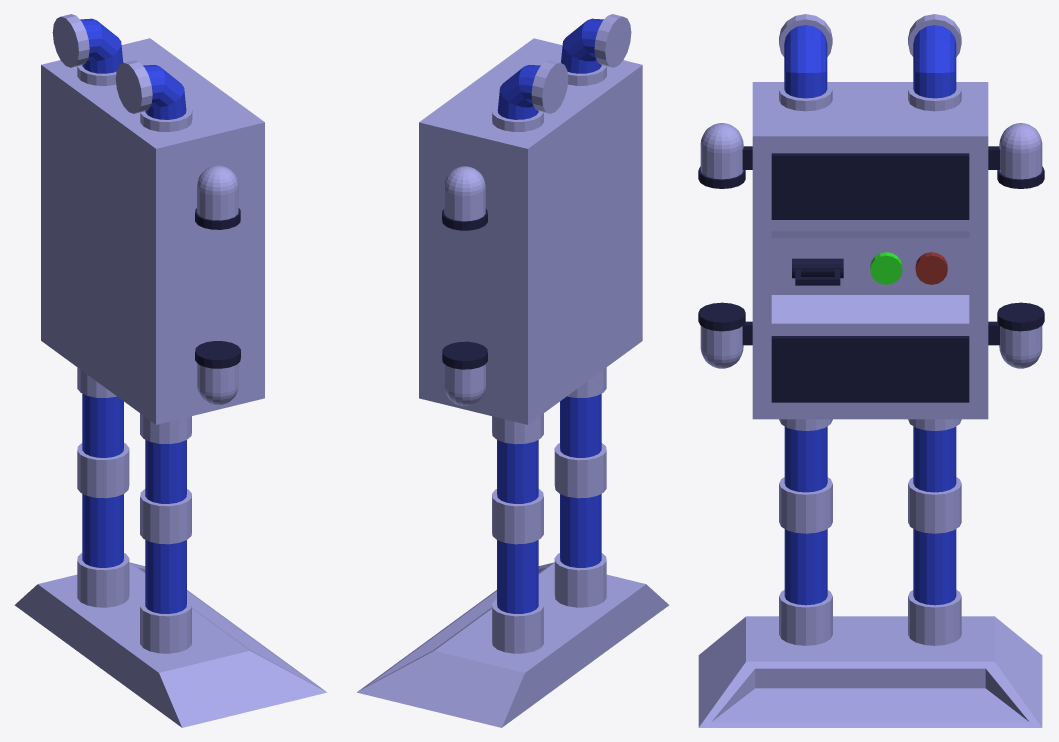
The model's file is Cooling_Terminal.fbx.
3 renders of one model, left to right at view 1: azimuth 30°, elevation 25°; view 2: azimuth 150°, elevation 25°; view 3: azimuth 270°, elevation 25°, orthographic. The views are drawn at different scales.
Visible parts, largest first — view 1: Main, Base, Cylinder.006, Cylinder.001, Cylinder.008, Cube.004, Cube.005, Cylinder.007, Cylinder.009, Cylinder.000; view 2: Main, Base, Cylinder.001, Cylinder.006, Cylinder.008, Cube, Cube.001, Cylinder.007, Cylinder.009, Cylinder.000; view 3: Main, Base, Cube.002, Cube.003, Cylinder.001, Cylinder.006, Cylinder.008, Cylinder.007, Cube.001, Cube, Cube.005, Cube.004 (+5 smaller).
Boxes of the visible parts, x1,y1,x2,y2 form: Main: (41,38,264,424); Base: (14,562,326,727); Cylinder.006: (140,413,191,653); Cylinder.001: (77,367,129,607); Cylinder.008: (115,60,192,131); Cube.004: (195,165,240,229); Cube.005: (195,341,240,405); Cylinder.007: (80,18,123,73); Cylinder.009: (52,14,89,67); Cylinder.000: (77,58,127,85); Main: (419,38,642,424); Base: (357,562,668,727); Cylinder.001: (492,413,543,653); Cylinder.006: (554,367,606,607); Cylinder.008: (556,14,631,85); Cube: (442,166,487,230); Cube.001: (442,341,487,405); Cylinder.007: (497,65,540,119); Cylinder.009: (531,60,568,113); Cylinder.000: (492,104,543,131); Main: (752,82,988,419); Base: (698,616,1042,727); Cube.002: (771,153,969,219); Cube.003: (771,336,969,402); Cylinder.001: (908,419,961,645); Cylinder.006: (779,419,832,645); Cylinder.008: (779,14,832,111); Cylinder.007: (913,25,956,98); Cube.001: (988,302,1044,368); Cube: (988,123,1044,188); Cube.005: (698,302,752,368); Cube.004: (698,123,752,188).
Bounding box in the file's own units: 201 × 822 × 403.
